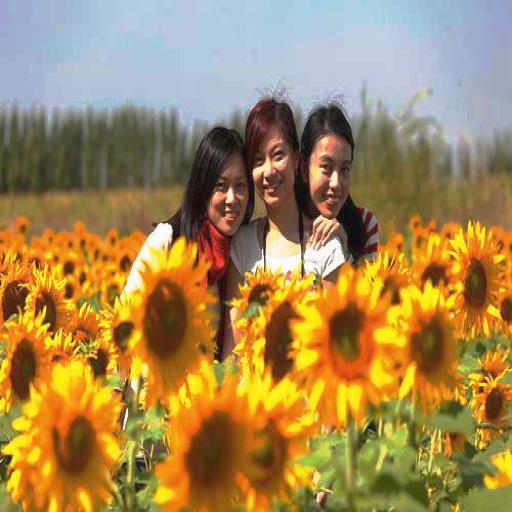sunflower: (3, 361, 125, 512), (290, 266, 398, 424), (442, 217, 506, 341), (24, 260, 68, 349), (474, 378, 512, 431)
